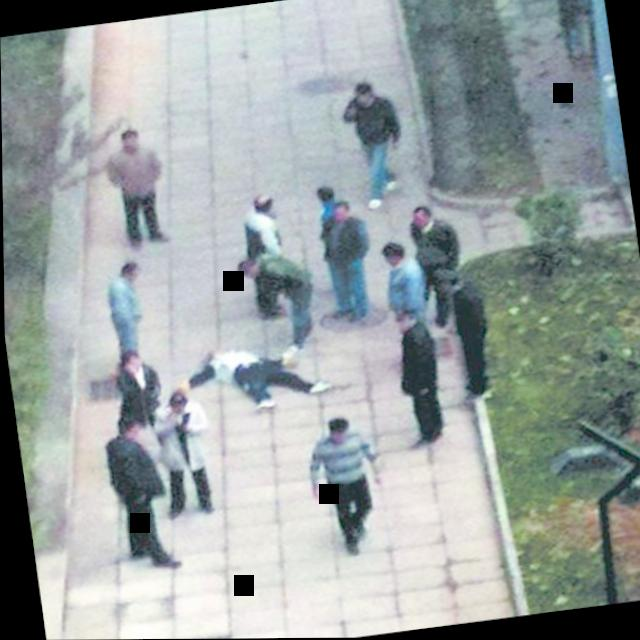Fall-Detected: (173, 313, 343, 427)
